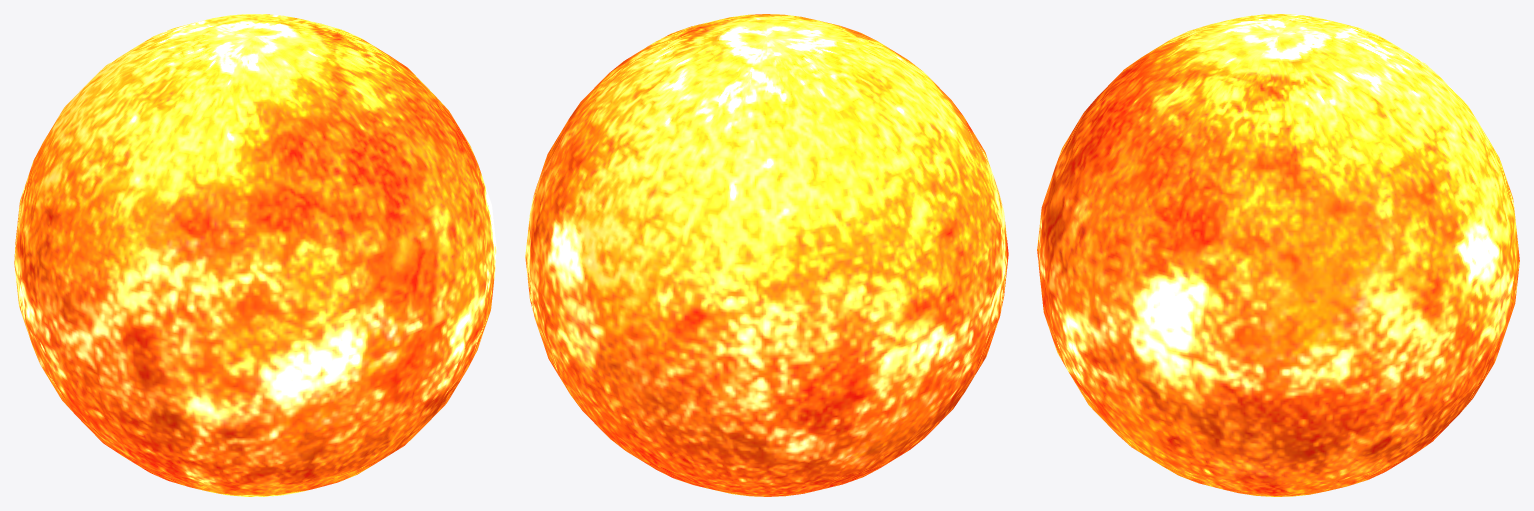
The picture shows the model from 3 angles, left to right: view 1: azimuth 30°, elevation 25°; view 2: azimuth 150°, elevation 25°; view 3: azimuth 270°, elevation 25°; orthographic projection.
Visible parts, largest first — view 1: sun; view 2: sun; view 3: sun.
Boxes of the visible parts, x1,y1,x2,y2 form: sun: (14,14,496,496); sun: (525,14,1008,496); sun: (1037,14,1519,496).
Size of the model in its own units: 48.76 by 48.83 by 48.76.
Materials: 1 (1 with a texture image).
